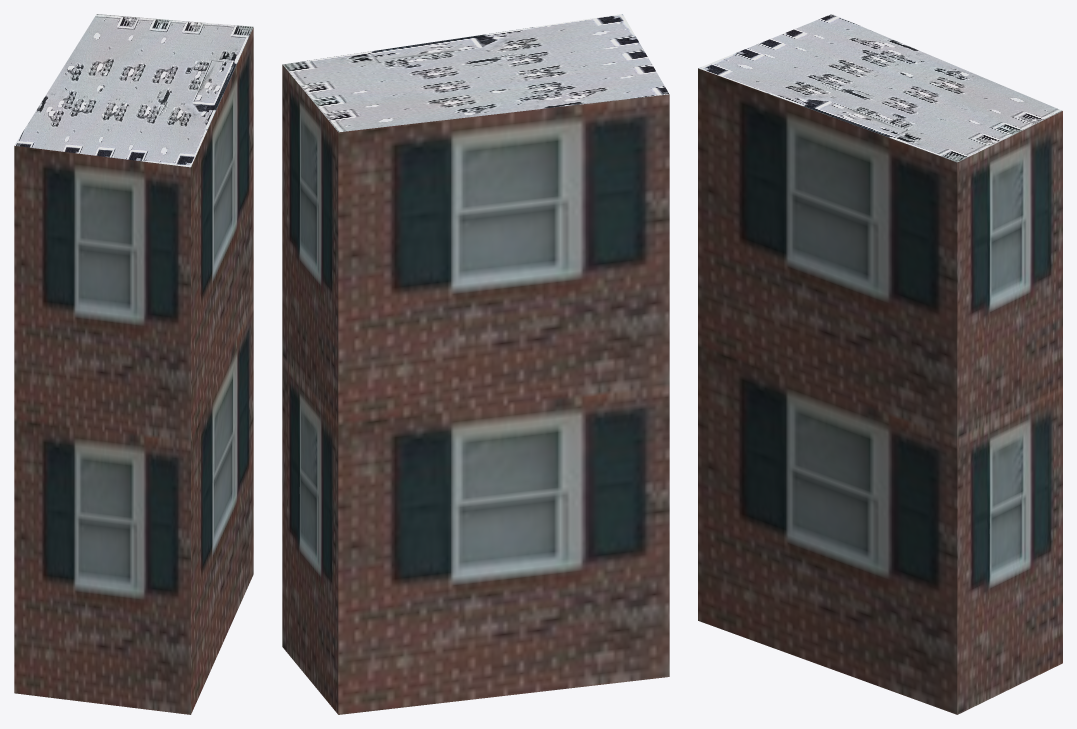
File: ResTex__4542.fbx
3 renders of one model, left to right at view 1: azimuth 30°, elevation 25°; view 2: azimuth 150°, elevation 25°; view 3: azimuth 270°, elevation 25°, orthographic. The views are drawn at different scales.
Parts seen in each view (by area): view 1: CityEngineMaterial_14_m, CityEngineMaterial_4_m; view 2: CityEngineMaterial_14_m, CityEngineMaterial_4_m; view 3: CityEngineMaterial_14_m, CityEngineMaterial_4_m.
Boxes of the visible parts, left/top/right/bottom form: CityEngineMaterial_14_m: left=14, top=27, right=253, bottom=714; CityEngineMaterial_4_m: left=14, top=14, right=253, bottom=167; CityEngineMaterial_14_m: left=282, top=64, right=669, bottom=714; CityEngineMaterial_4_m: left=282, top=14, right=668, bottom=132; CityEngineMaterial_14_m: left=698, top=68, right=1062, bottom=714; CityEngineMaterial_4_m: left=698, top=14, right=1062, bottom=162.
Size of the model in its own units: 3.46 by 6 by 3.59.
Materials: 2 (2 with a texture image).
